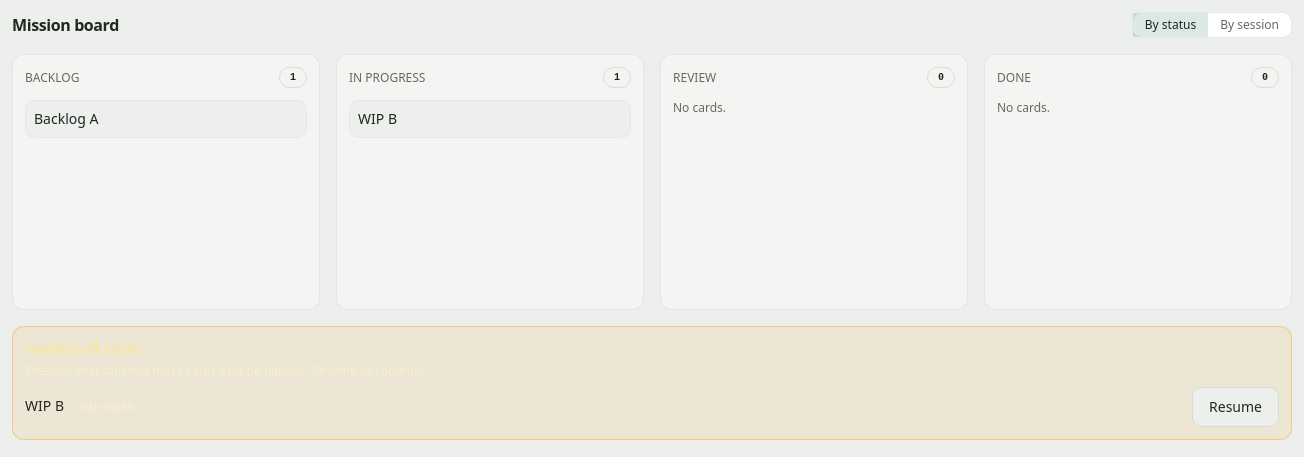
Scenario: KanbanBoard › swimlane toggle switches to the session view
This screenshot has width=1304, height=457.
# Click the "By session" radio.
Click the radio button "By session": [1250, 25] box [1208, 13, 1291, 37]
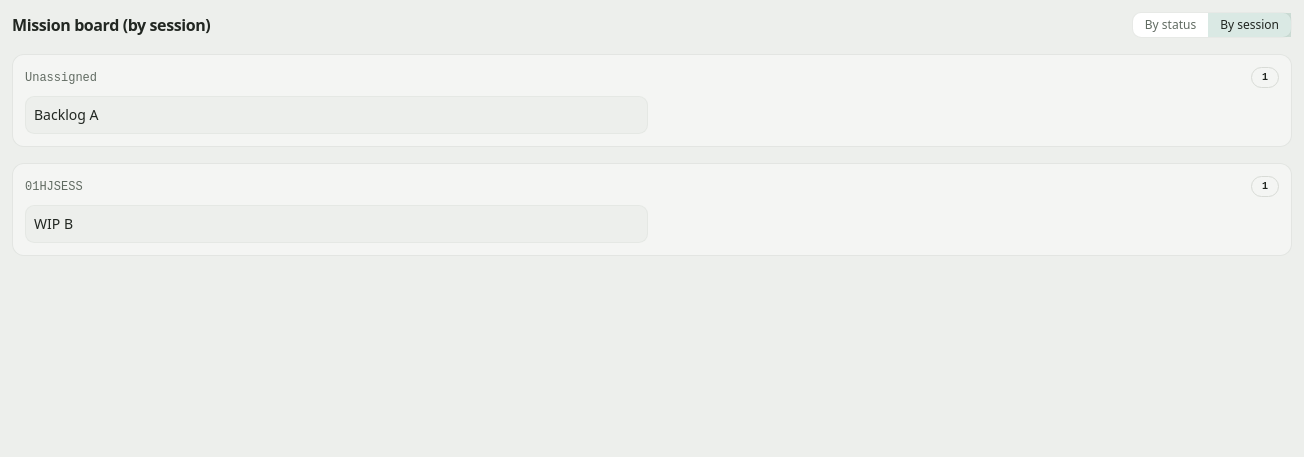
Expected: the element with test id "mission-kanban-session" is shown, [12, 12, 1292, 256]
